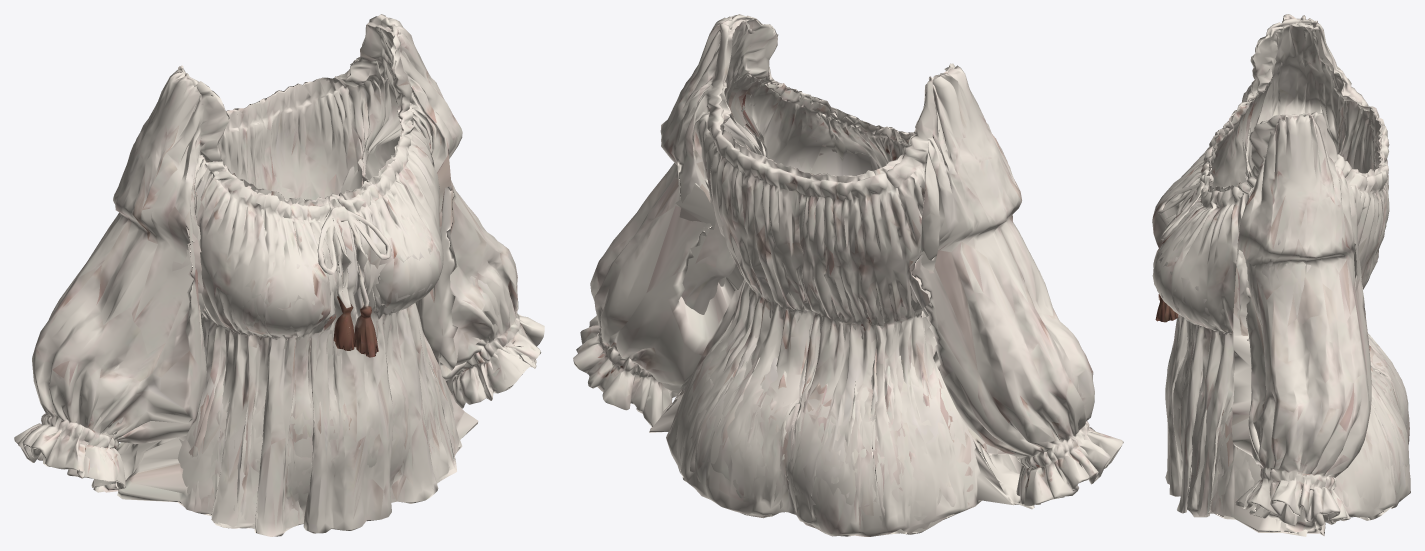
File: top_f_peasant.glb
3 views of the same model, side by side, from view 1: azimuth 30°, elevation 25°; view 2: azimuth 150°, elevation 25°; view 3: azimuth 270°, elevation 25° (orthographic). The views are drawn at different scales.
Visible parts, largest first — view 1: f_peasant; view 2: f_peasant; view 3: f_peasant.
Boxes of the visible parts, bbox=[...] form: f_peasant: bbox=[14, 14, 544, 536]; f_peasant: bbox=[573, 14, 1123, 536]; f_peasant: bbox=[1152, 14, 1410, 536].
Bounding box in the file's own units: 0.866 × 0.7038 × 0.3942.
1 material, 1 textured.
